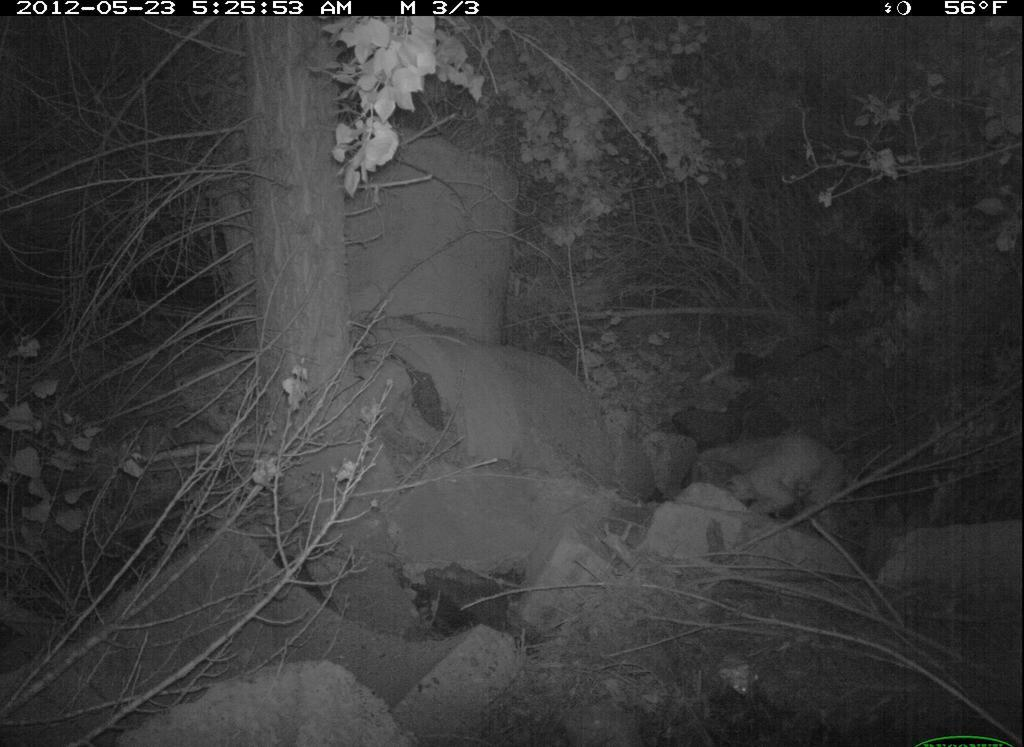bobcat: (712, 427, 871, 555)
